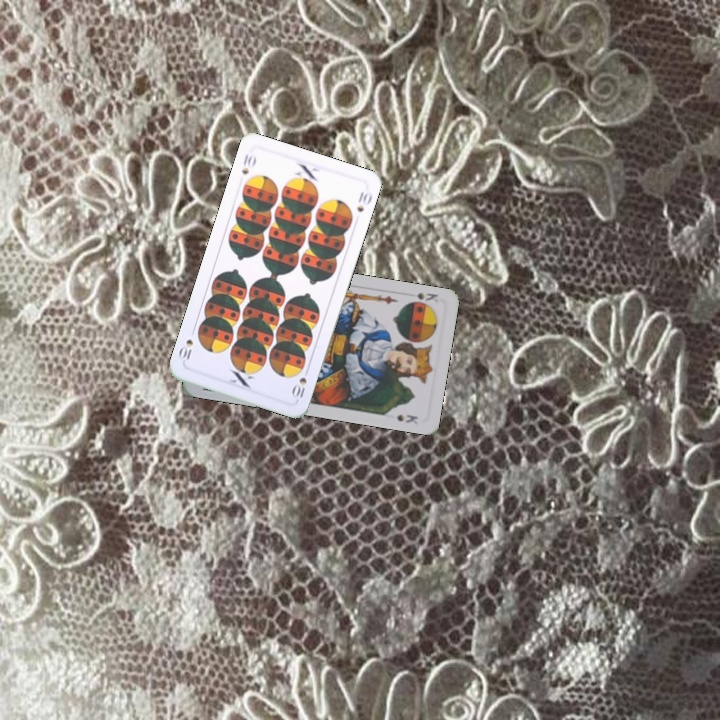S10: (288, 373, 309, 403), (237, 150, 259, 177)
SK: (411, 288, 441, 305)
